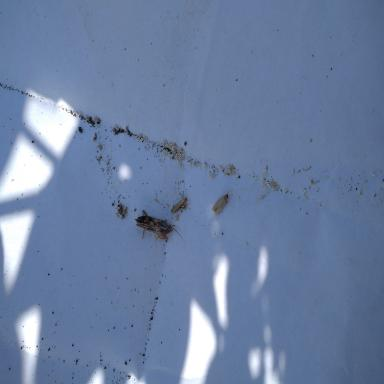pbw: (212, 187, 233, 215), (170, 196, 190, 213)
